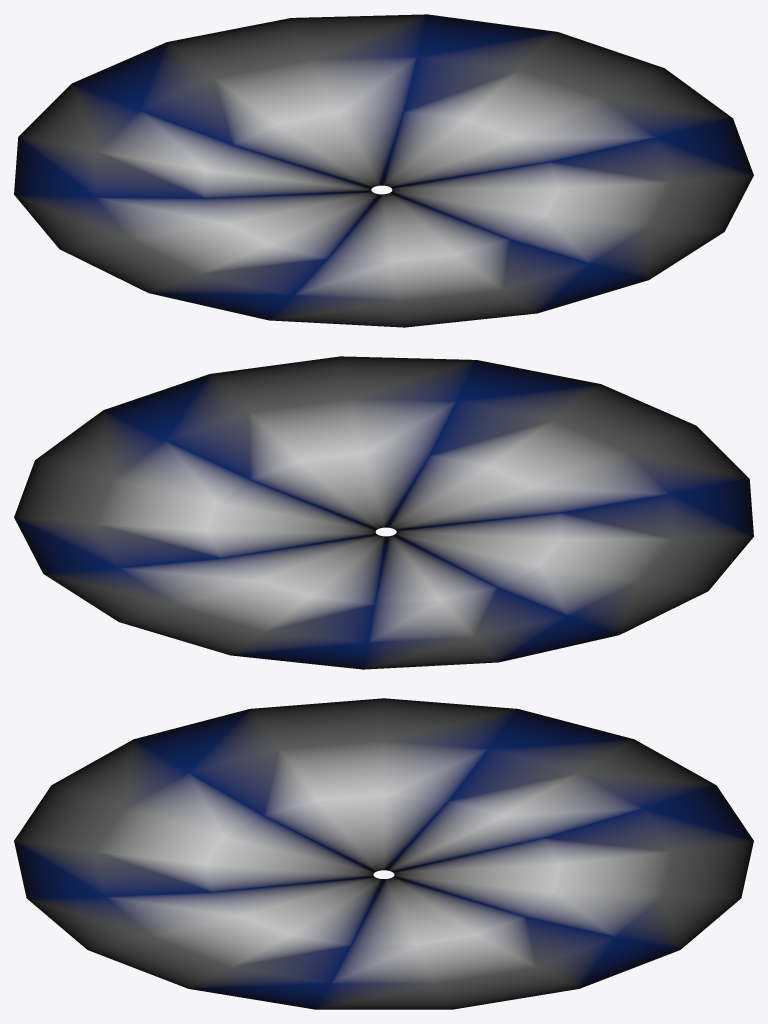
Rendered from 0041_Mikal@Spell2_l.fbx.
The picture shows the model from 3 angles, top to bottom: view 1: azimuth 30°, elevation 25°; view 2: azimuth 150°, elevation 25°; view 3: azimuth 270°, elevation 25°; orthographic projection.
Visible parts, largest first — view 1: mesh_yellow; view 2: mesh_yellow; view 3: mesh_yellow.
Part boxes in pixels (x1,y1,x2,y2): mesh_yellow: (14,14,753,327); mesh_yellow: (14,356,753,669); mesh_yellow: (14,698,753,1009).
Bounding box in the file's own units: 6.23 × 0.1812 × 6.26.
